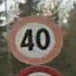limite 40: (3, 14, 64, 65)
